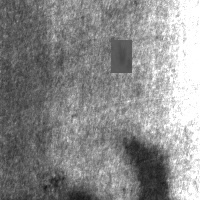inclusion: (111, 40, 132, 73)
patches: (122, 139, 169, 200)
